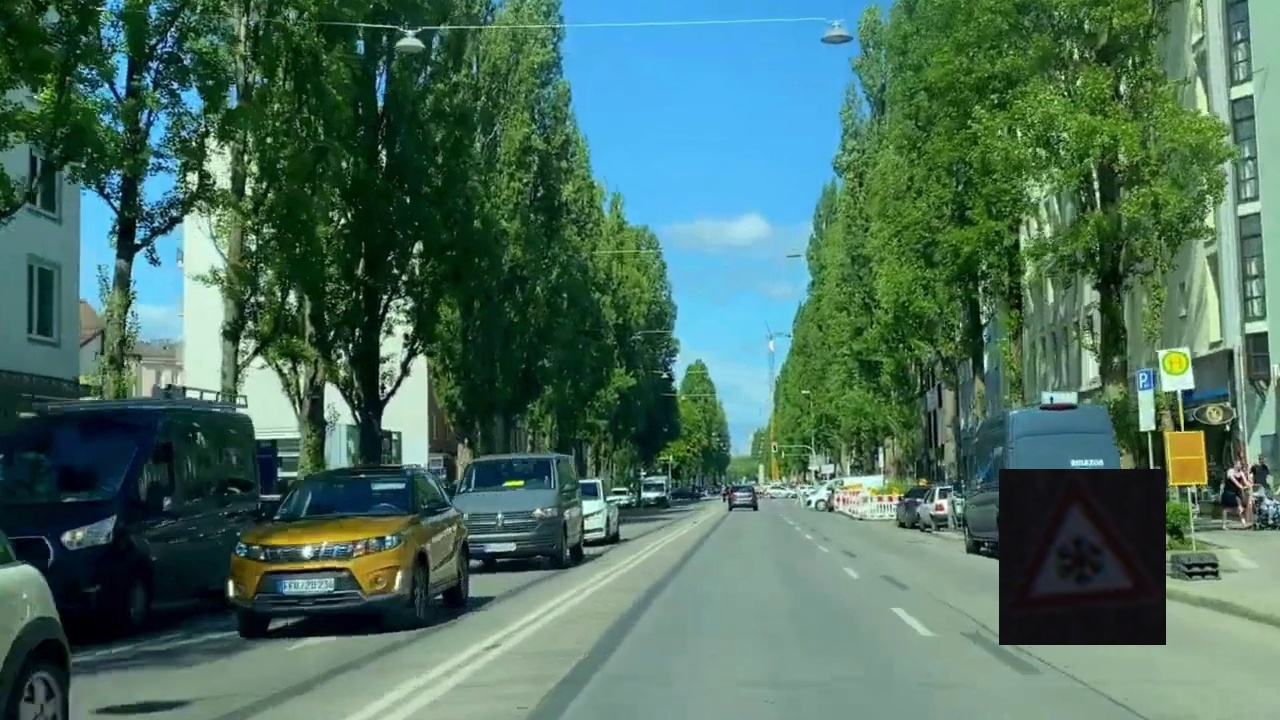Ice/snow: (999, 469, 1166, 645)
